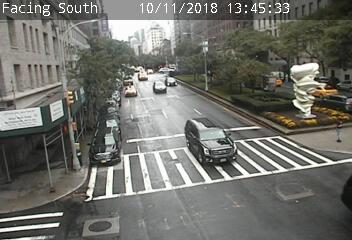car: (185, 118, 237, 164), (90, 127, 120, 166), (238, 73, 276, 91), (314, 95, 352, 111), (309, 85, 337, 98), (153, 81, 166, 93), (124, 86, 137, 97), (165, 77, 177, 86)
